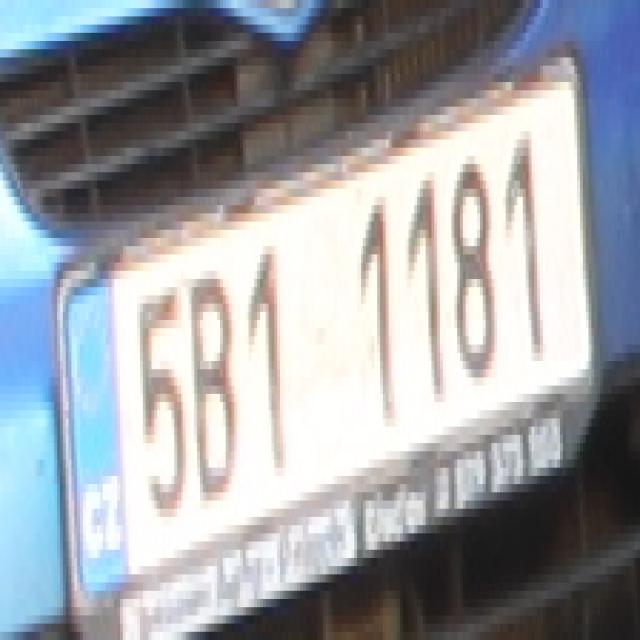1: (403, 172, 451, 394), (497, 123, 543, 353), (354, 189, 400, 418), (248, 246, 288, 476)
5: (134, 271, 183, 525)
8: (454, 147, 497, 386)
B: (191, 262, 240, 500)
